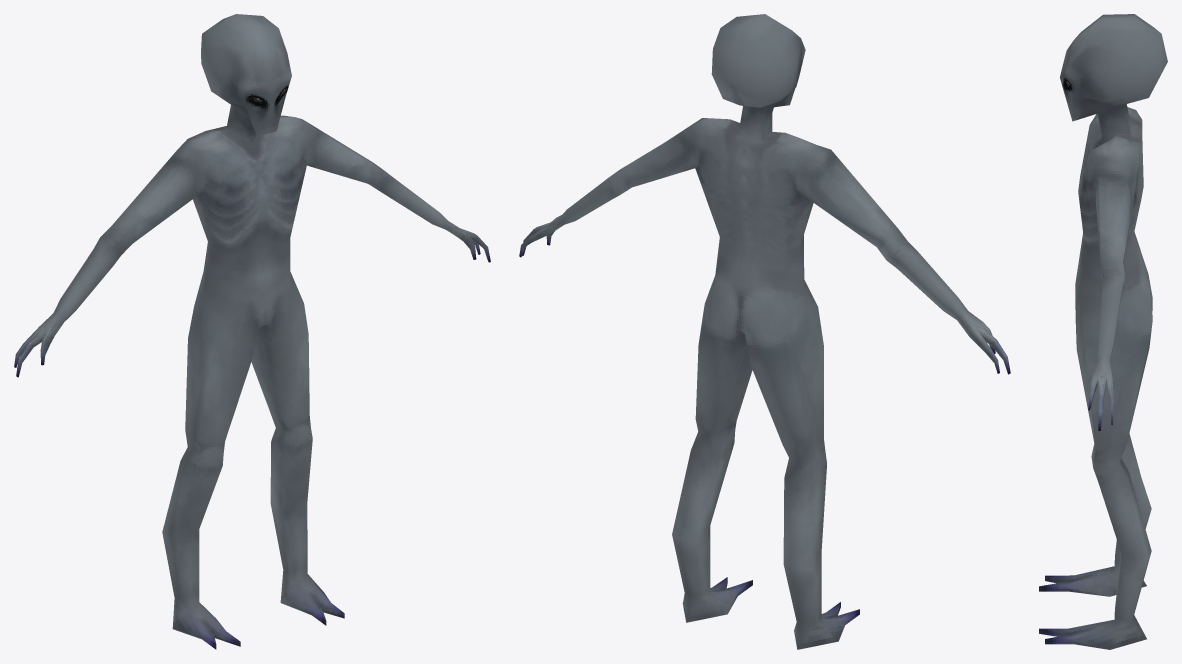
The model's file is ps1low_poly_grey_alien.glb.
3 renders of one model, left to right at view 1: azimuth 30°, elevation 25°; view 2: azimuth 150°, elevation 25°; view 3: azimuth 270°, elevation 25°, orthographic. The views are drawn at different scales.
Parts seen in each view (by area): view 1: Object_2; view 2: Object_2; view 3: Object_2.
Boxes of the visible parts, x1,y1,x2,y2 form: Object_2: (14,14,490,649); Object_2: (519,14,1010,649); Object_2: (1039,14,1167,649).
Bounding box in the file's own units: 2.74 × 3.25 × 0.6385.
1 material, 1 textured.
